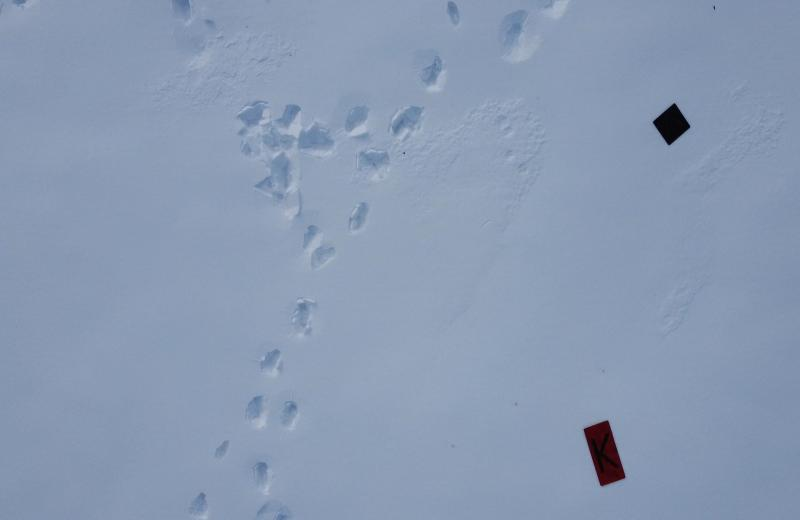Rectangle: (586, 419, 626, 488)
Square: (652, 102, 692, 148)
